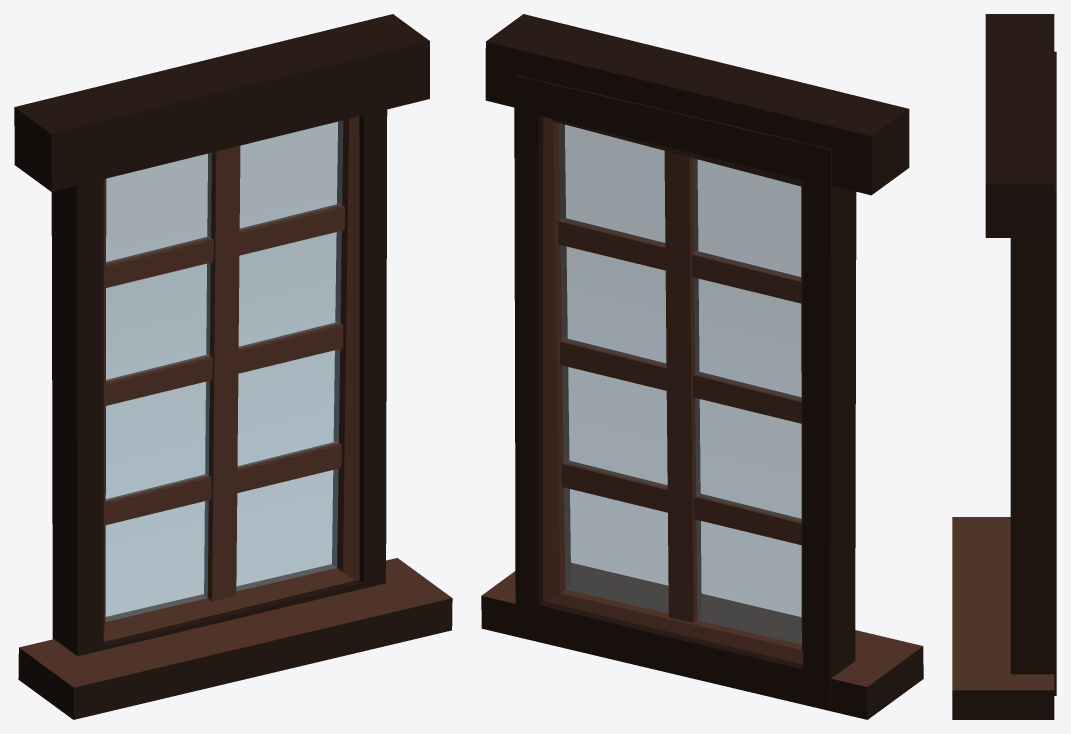
File: Window 2x4 V2 Closed.glb
3 renders of one model, left to right at view 1: azimuth 30°, elevation 25°; view 2: azimuth 150°, elevation 25°; view 3: azimuth 270°, elevation 25°, orthographic. The views are drawn at different scales.
Parts seen in each view (by area): view 1: Window 2x4 V2 Closed; view 2: Window 2x4 V2 Closed; view 3: Window 2x4 V2 Closed.
Boxes of the visible parts, x1,y1,x2,y2 form: Window 2x4 V2 Closed: (14, 14, 452, 719); Window 2x4 V2 Closed: (481, 14, 923, 719); Window 2x4 V2 Closed: (952, 14, 1056, 719).
Size of the model in its own units: 1.42 by 2.05 by 0.3625.
2 materials, 2 textured.
